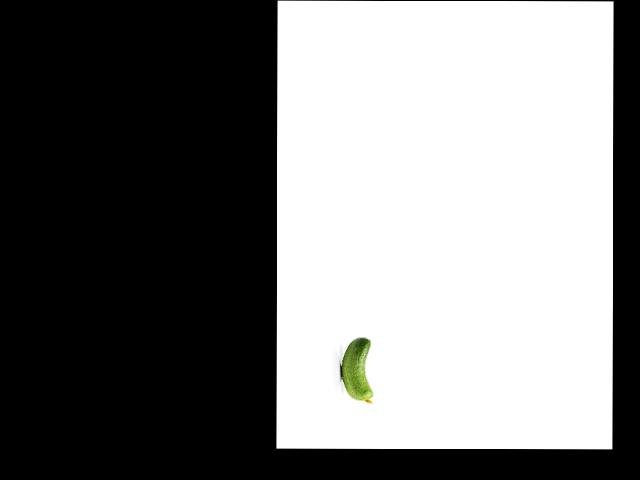cucumber: (340, 336, 373, 403)
